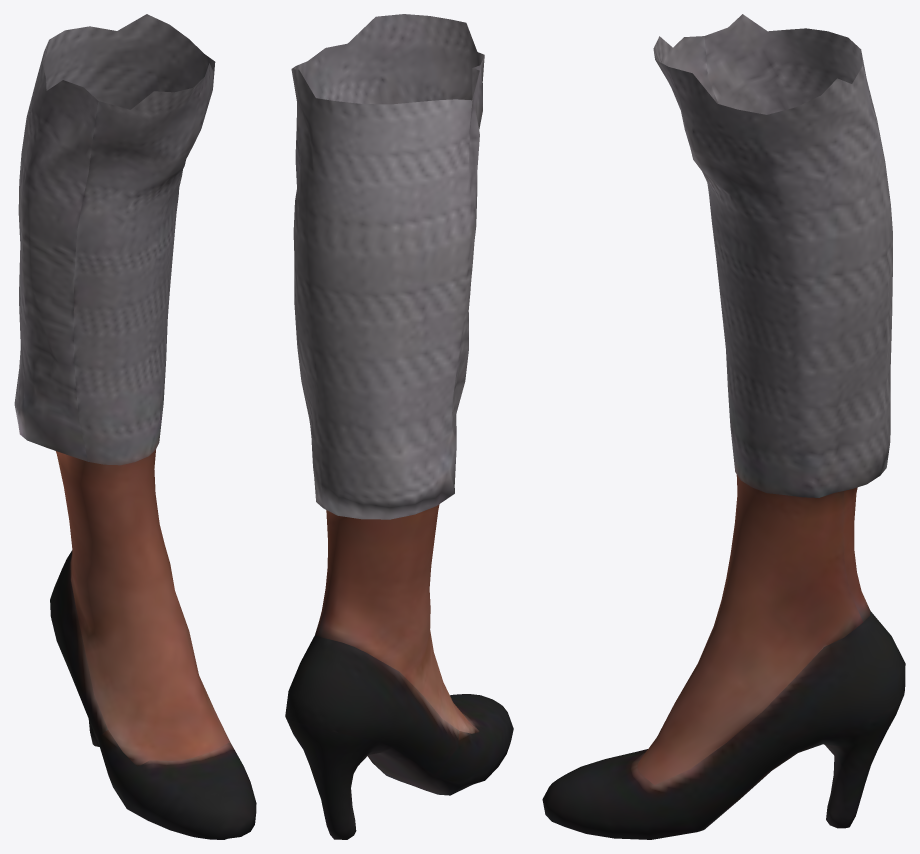
Rendered from ProfesorSubRightLeg.obj.
The picture shows the model from 3 angles, left to right: view 1: azimuth 30°, elevation 25°; view 2: azimuth 150°, elevation 25°; view 3: azimuth 270°, elevation 25°; orthographic projection. The views are drawn at different scales.
Parts seen in each view (by area): view 1: ProfesorSubRightLeg; view 2: ProfesorSubRightLeg; view 3: ProfesorSubRightLeg.
Part boxes in pixels (<box>): ProfesorSubRightLeg: <box>14,14,256,839</box>; ProfesorSubRightLeg: <box>285,14,513,839</box>; ProfesorSubRightLeg: <box>542,14,905,839</box>.
Size of the model in its own units: 12.93 by 53.21 by 22.67.
Materials: 1 (1 with a texture image).
